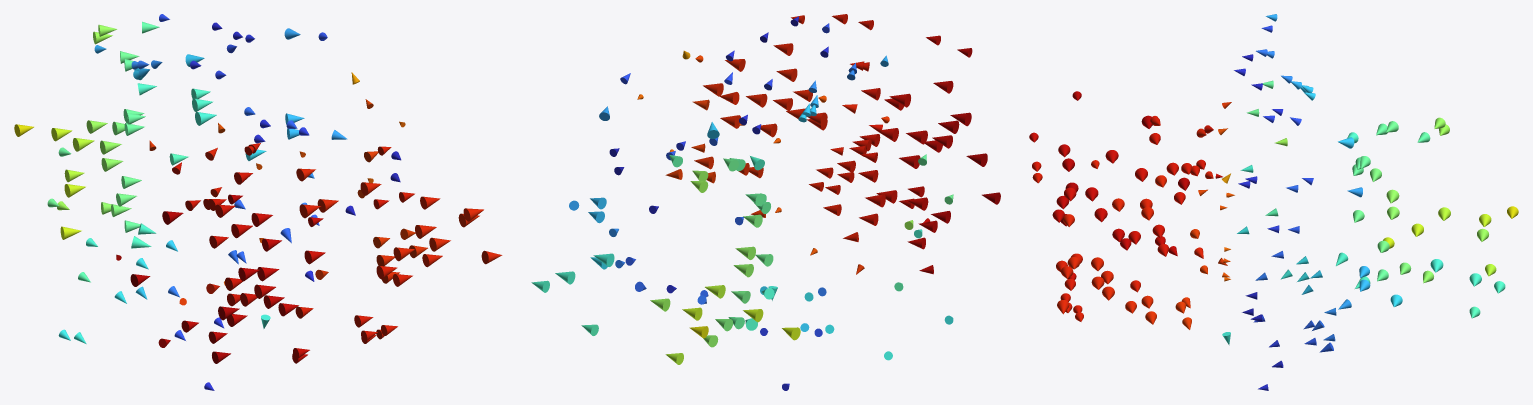
File: LineasCorrienteH2-O2_mh2-1.38_V-0.8.glb
The picture shows the model from 3 angles, left to right: view 1: azimuth 30°, elevation 25°; view 2: azimuth 150°, elevation 25°; view 3: azimuth 270°, elevation 25°; orthographic projection. The views are drawn at different scales.
Size of the model in its own units: 0.000921 by 0.000963 by 0.00124.
Materials: 2 (2 with a texture image).
